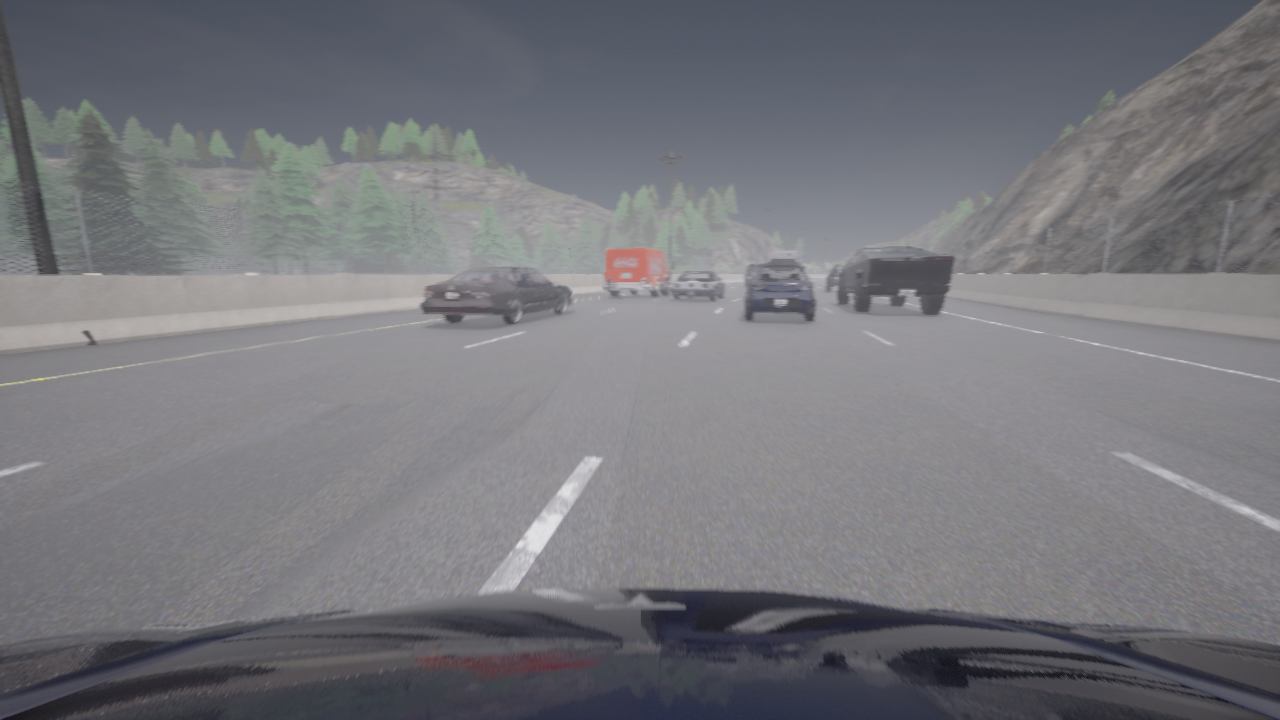cyclist: (0, 588, 1279, 719), (419, 266, 573, 324), (836, 247, 953, 313), (744, 264, 815, 322), (603, 248, 673, 297), (671, 272, 723, 300), (767, 251, 804, 270), (826, 264, 844, 291), (745, 265, 761, 286)
